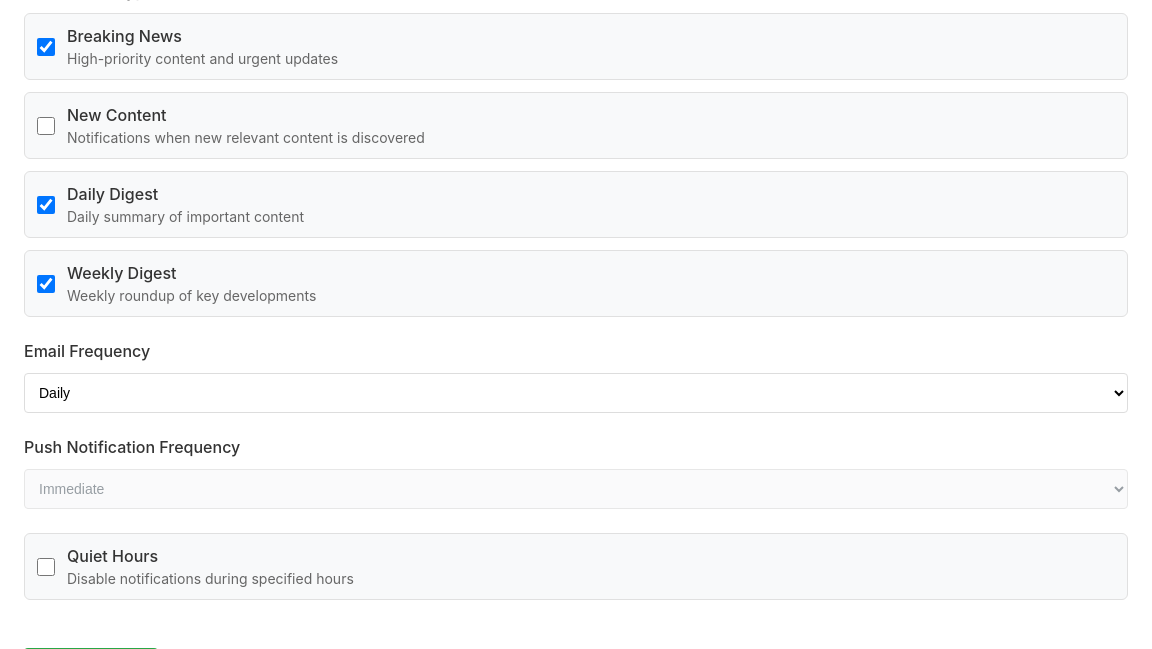
Test case: NotificationSettings Component › enables quiet hours schedule when checkbox is clicked
(page scrolled)
Click the checkbox next to "Quiet Hours" at (46, 566), box x1=37 y1=558 x2=55 y2=576
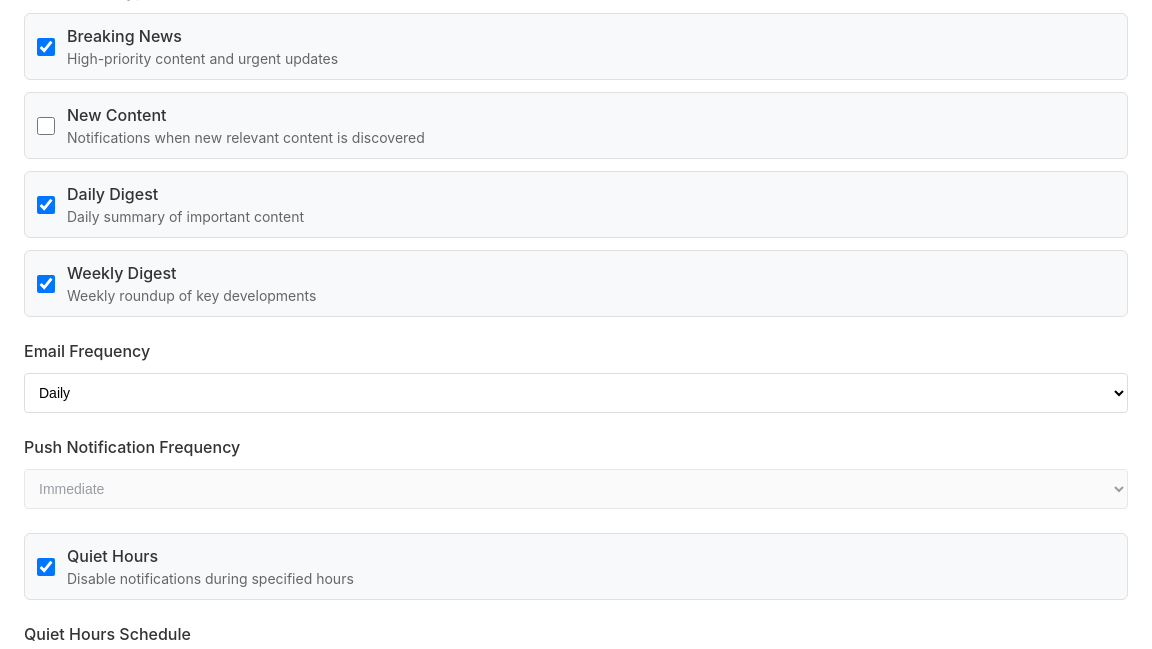
Check: the text "Quiet Hours Schedule" is shown, box x1=24 y1=624 x2=191 y2=644
